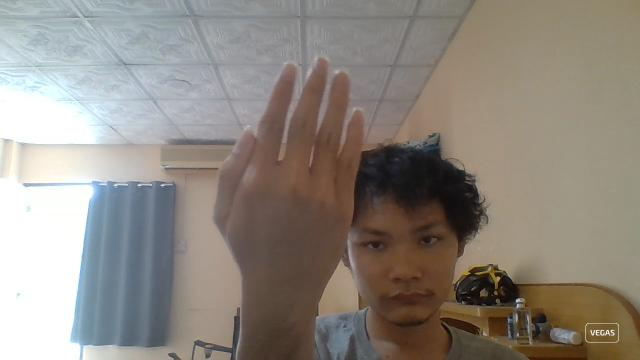backword: (211, 56, 365, 322)
